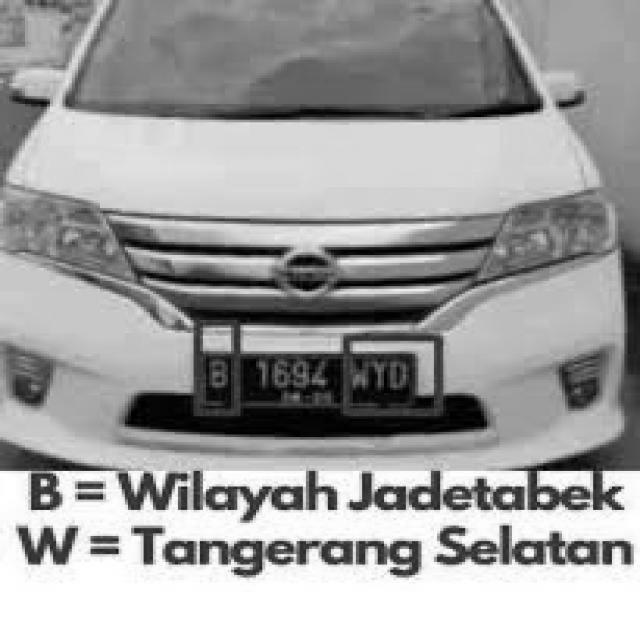1: (250, 360, 272, 390)
4: (308, 355, 334, 402)
6: (270, 358, 288, 396)
9: (288, 356, 308, 398)
B: (208, 358, 228, 394)
D: (388, 360, 410, 396)
W: (348, 360, 372, 396)
Y: (370, 361, 390, 394)
